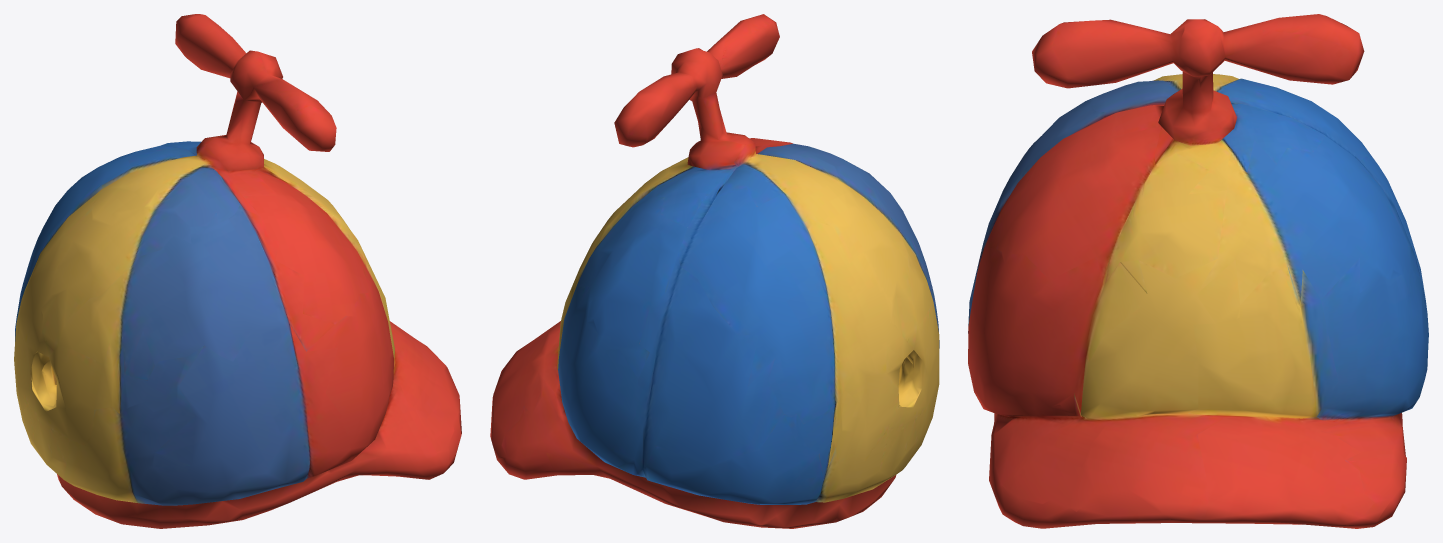
File: hat-propeller.glb
3 views of the same model, side by side, from view 1: azimuth 30°, elevation 25°; view 2: azimuth 150°, elevation 25°; view 3: azimuth 270°, elevation 25° (orthographic). The views are drawn at different scales.
Parts seen in each view (by area): view 1: tripo_node_20d92e50-076f-4b16-b3e1-eec68fe29f2d; view 2: tripo_node_20d92e50-076f-4b16-b3e1-eec68fe29f2d; view 3: tripo_node_20d92e50-076f-4b16-b3e1-eec68fe29f2d.
Boxes of the visible parts, bbox=[...] form: tripo_node_20d92e50-076f-4b16-b3e1-eec68fe29f2d: bbox=[14, 14, 461, 528]; tripo_node_20d92e50-076f-4b16-b3e1-eec68fe29f2d: bbox=[490, 14, 939, 528]; tripo_node_20d92e50-076f-4b16-b3e1-eec68fe29f2d: bbox=[968, 14, 1428, 528].
Bounding box in the file's own units: 0.9911 × 1 × 0.8855.
1 material, 1 textured.
